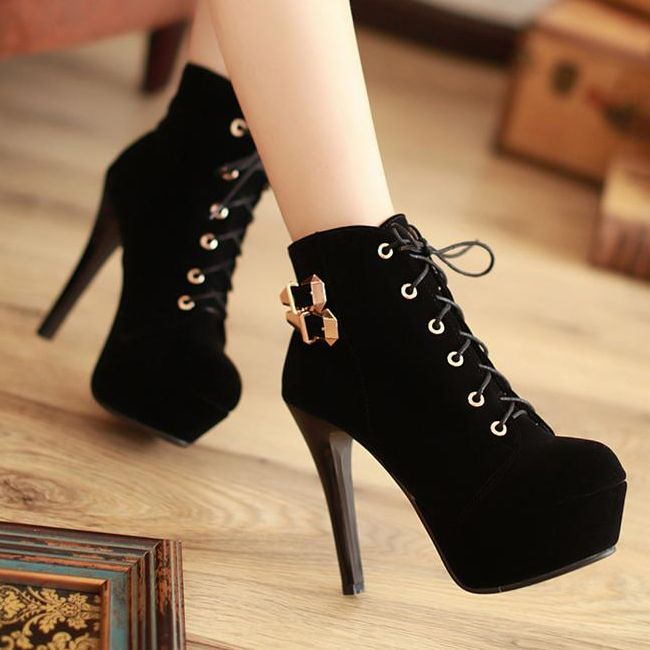gamuza: (35, 63, 628, 592)
